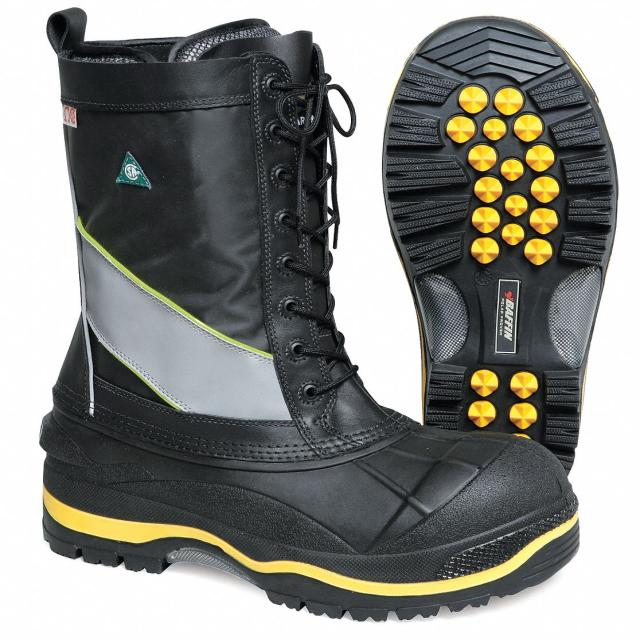boot: (18, 8, 580, 624)
